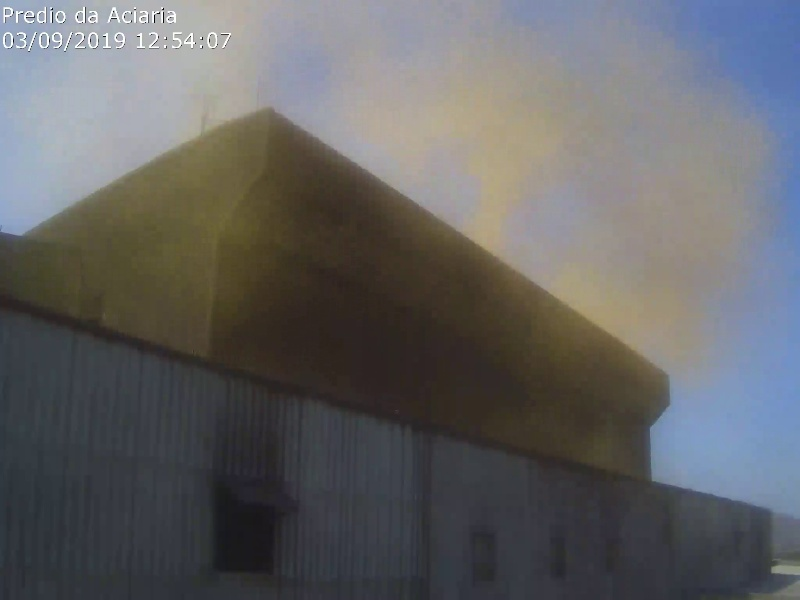pessimo: (60, 6, 783, 386)
